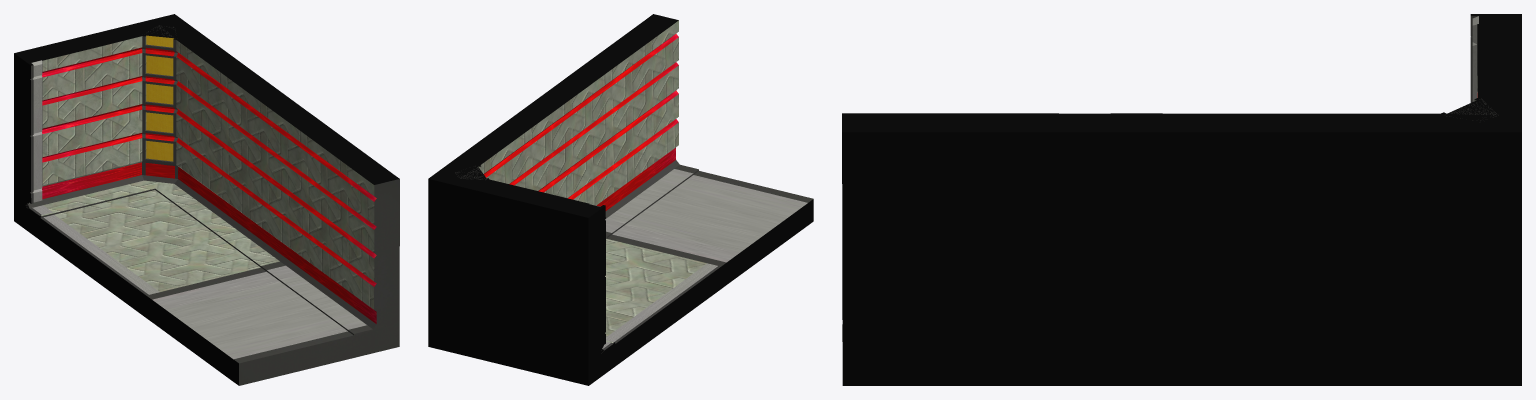
Rendered from Corner.fbx.
3 renders of one model, left to right at view 1: azimuth 30°, elevation 25°; view 2: azimuth 150°, elevation 25°; view 3: azimuth 270°, elevation 25°, orthographic. The views are drawn at different scales.
Parts seen in each view (by area): view 1: Corner; view 2: Corner; view 3: Corner.
Part boxes in pixels (x1,y1,x2,y2): Corner: [14, 14, 399, 385]; Corner: [428, 14, 813, 385]; Corner: [842, 14, 1521, 385].
Bounding box in the file's own units: 7.01 × 7 × 17.
Materials: 1 (1 with a texture image).
